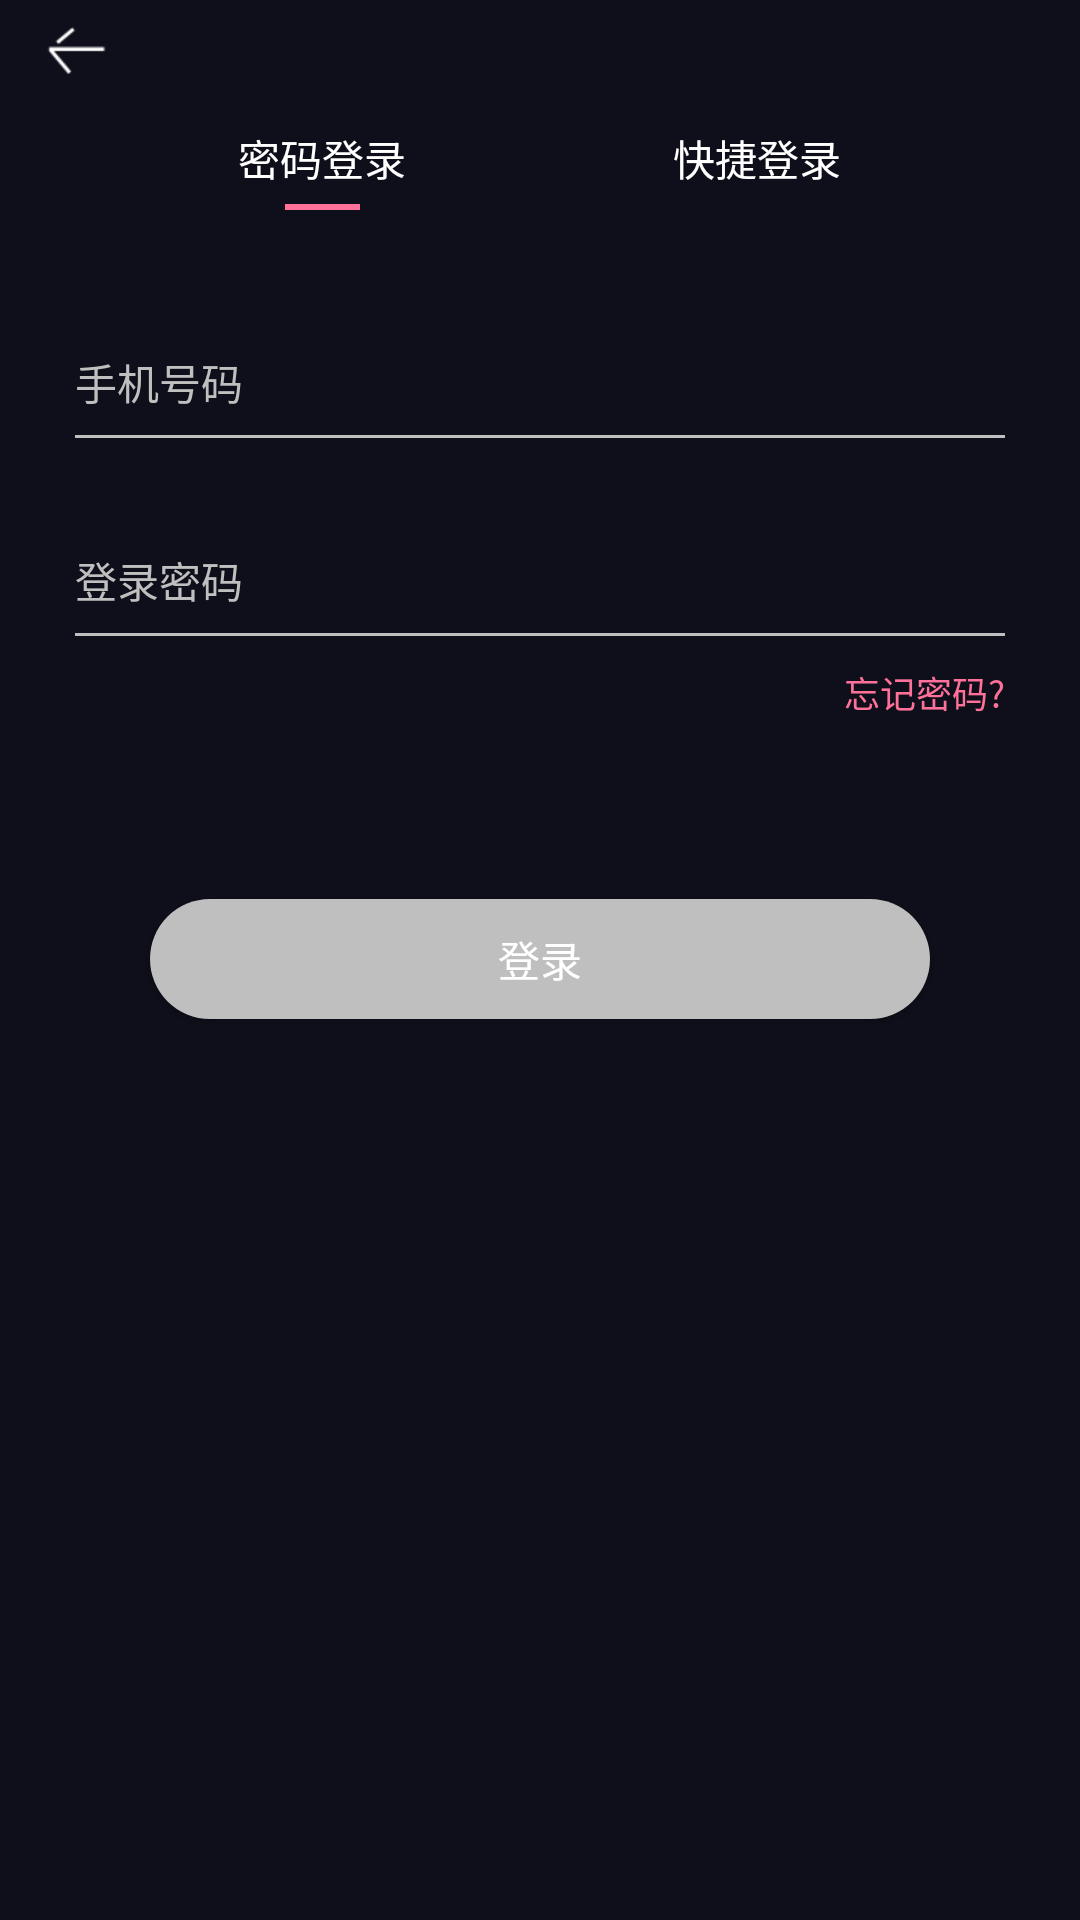

Icons on this 1080 × 1920 Android screen, each with its box as (x1, y1, x2, y2):
back: (48, 27, 105, 74)
